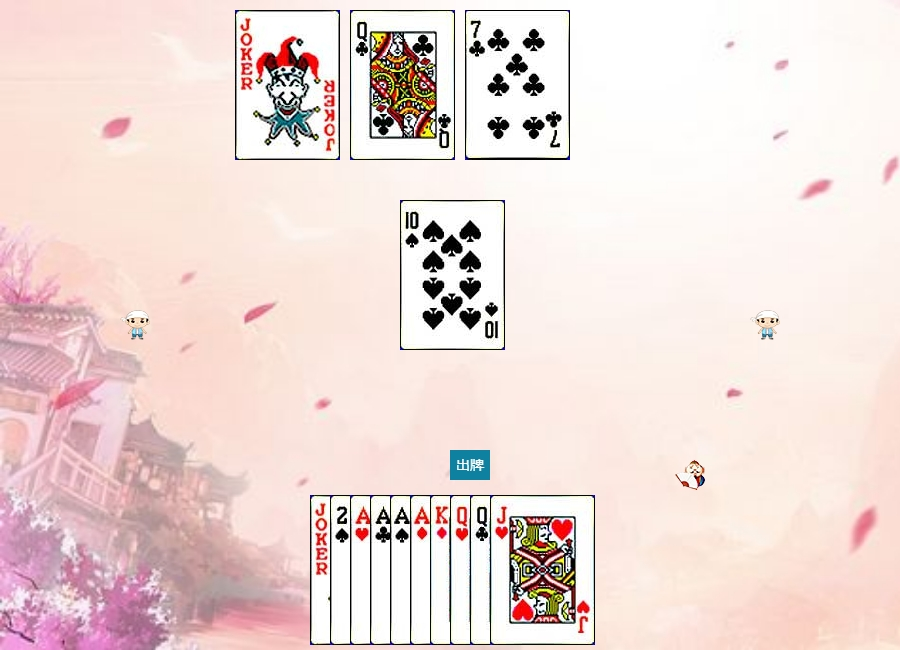10~4: (400, 200, 505, 350)
11~3: (490, 495, 595, 645)
12~2: (350, 10, 455, 160), (470, 495, 575, 645)
12~3: (450, 495, 555, 645)
13~1: (430, 495, 535, 645)
14~1: (410, 495, 515, 645)
14~2: (370, 495, 475, 645)
14~3: (350, 495, 455, 645)
14~4: (390, 495, 495, 645)
15~4: (330, 495, 435, 645)
18~4: (235, 10, 340, 160), (310, 495, 415, 645)
7~2: (465, 10, 570, 160)
